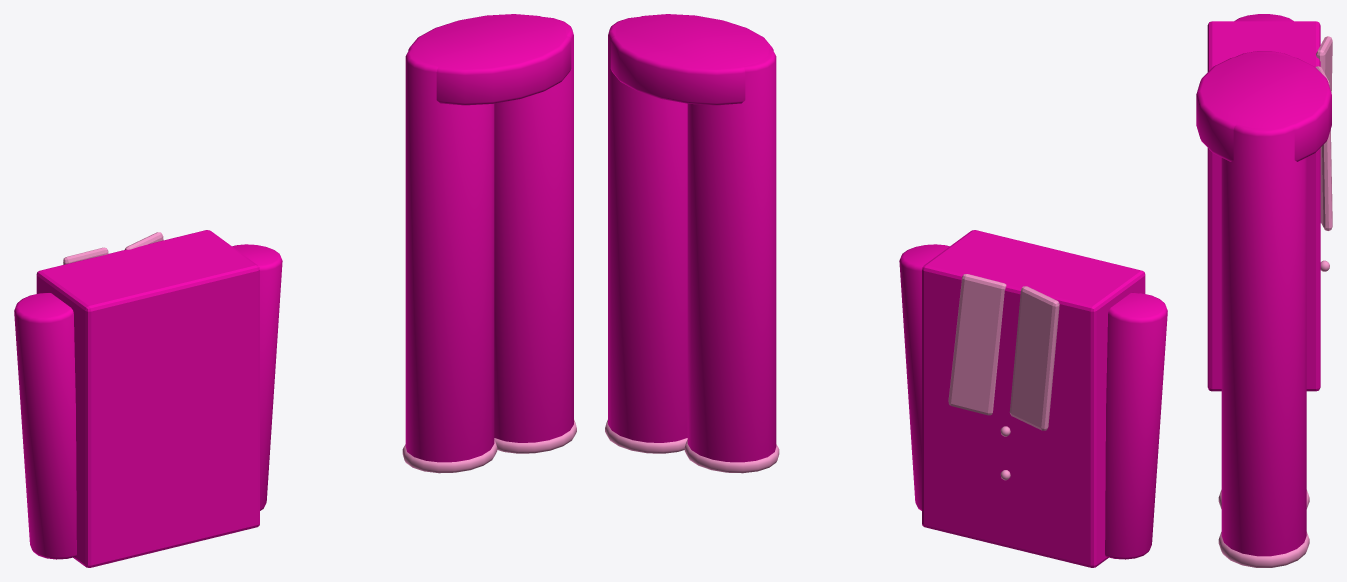
The model's file is VM-NIN-7721.glb.
3 views of the same model, side by side, from view 1: azimuth 30°, elevation 25°; view 2: azimuth 150°, elevation 25°; view 3: azimuth 270°, elevation 25° (orthographic). The views are drawn at different scales.
Visible parts, largest first — view 1: Conjunto Active Warm; view 2: Conjunto Active Warm; view 3: Conjunto Active Warm.
Part boxes in pixels (x1,y1,x2,y2): Conjunto Active Warm: (14,14,576,567); Conjunto Active Warm: (605,14,1167,567); Conjunto Active Warm: (1196,14,1332,567).
Size of the model in its own units: 0.9033 by 0.6324 by 0.1795.
